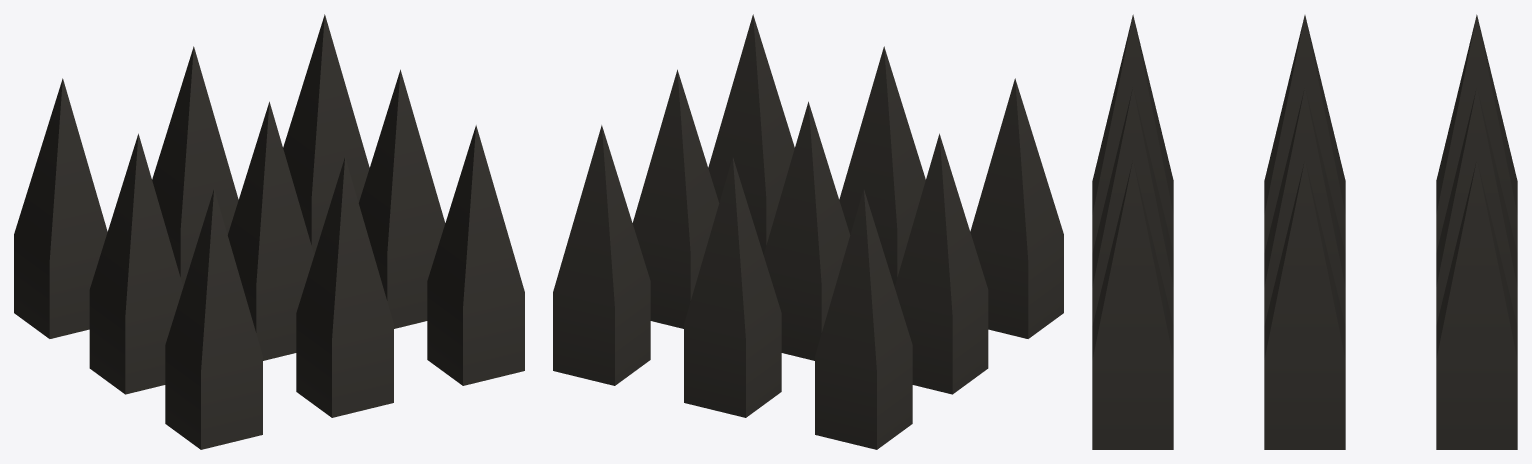
File: FloorSpikes.fbx
3 views of the same model, side by side, from view 1: azimuth 30°, elevation 25°; view 2: azimuth 150°, elevation 25°; view 3: azimuth 270°, elevation 25° (orthographic). The views are drawn at different scales.
Visible parts, largest first — view 1: FloorSpike; view 2: FloorSpike; view 3: FloorSpike.
Boxes of the visible parts, x1=… form: FloorSpike: x1=14, y1=14, x2=524, y2=449; FloorSpike: x1=553, y1=14, x2=1063, y2=449; FloorSpike: x1=1092, y1=14, x2=1517, y2=449.
Bounding box in the file's own units: 0.989 × 0.989 × 0.7022.
